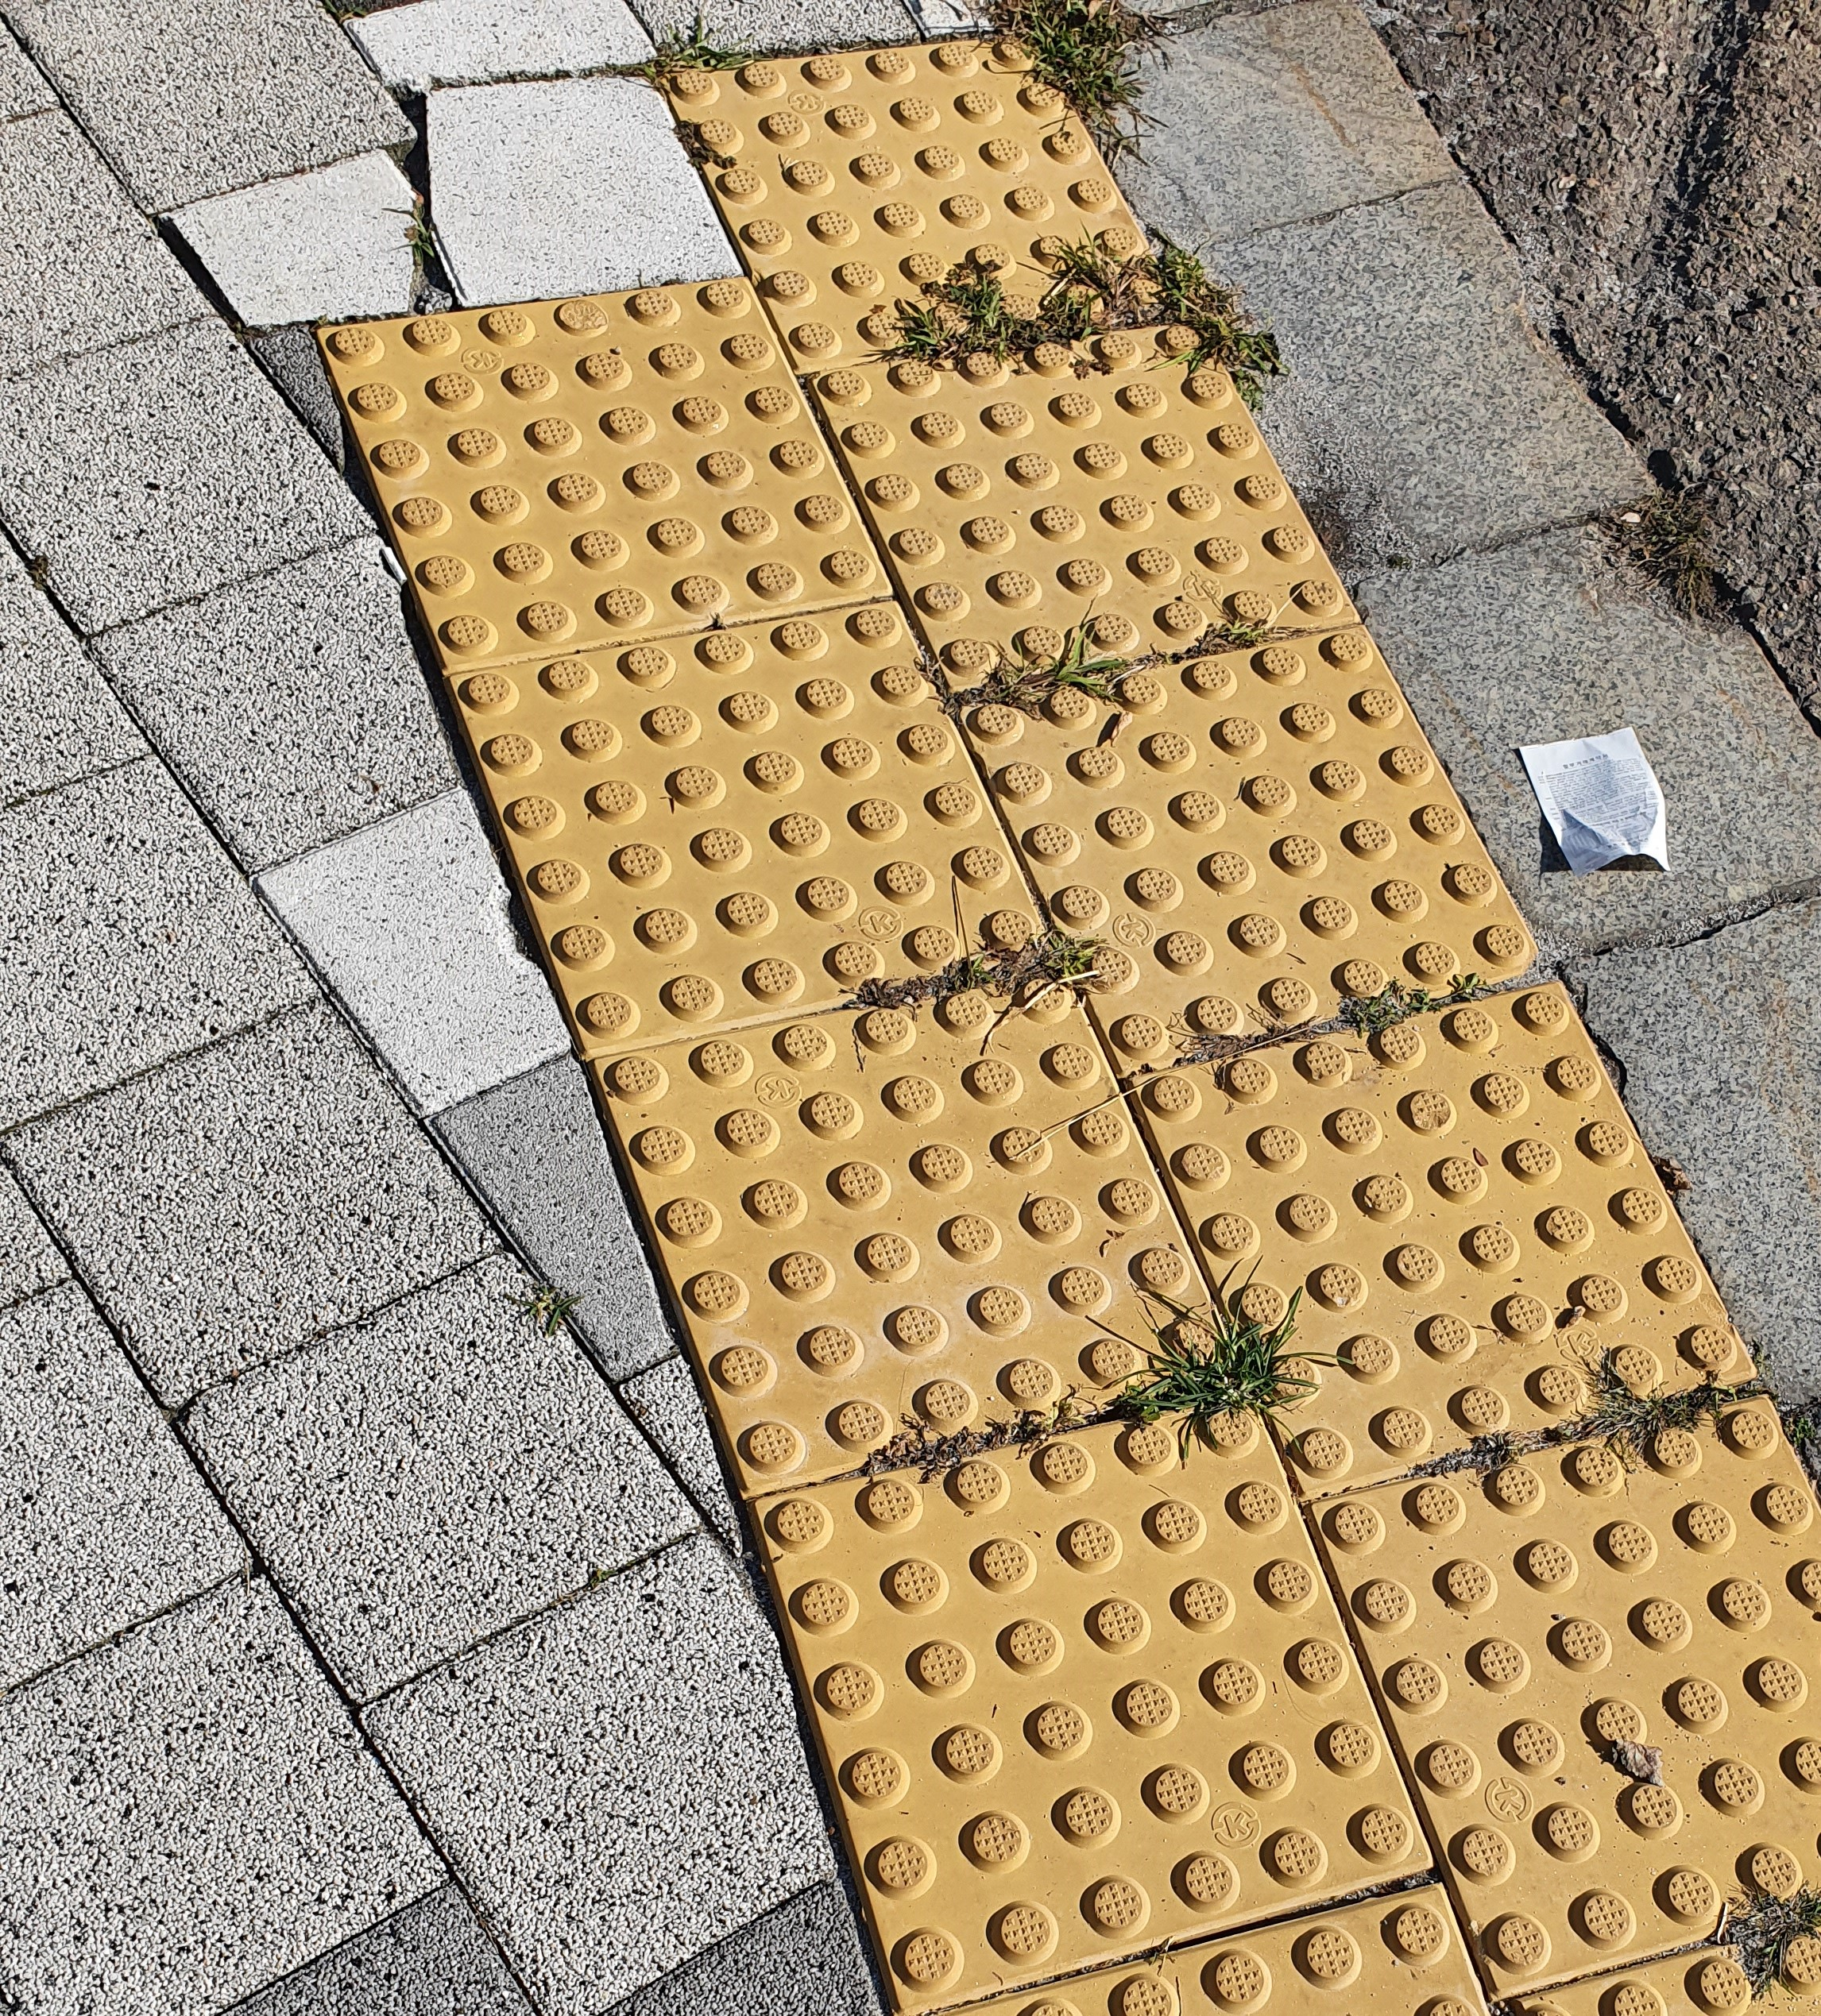warningBlock: (801, 1466, 1382, 1893), (1386, 1421, 1821, 1963), (643, 1006, 1199, 1412), (1217, 1027, 1682, 1459), (989, 646, 1505, 1019), (495, 664, 966, 990), (369, 321, 846, 625), (866, 356, 1280, 673), (729, 58, 1089, 330)
